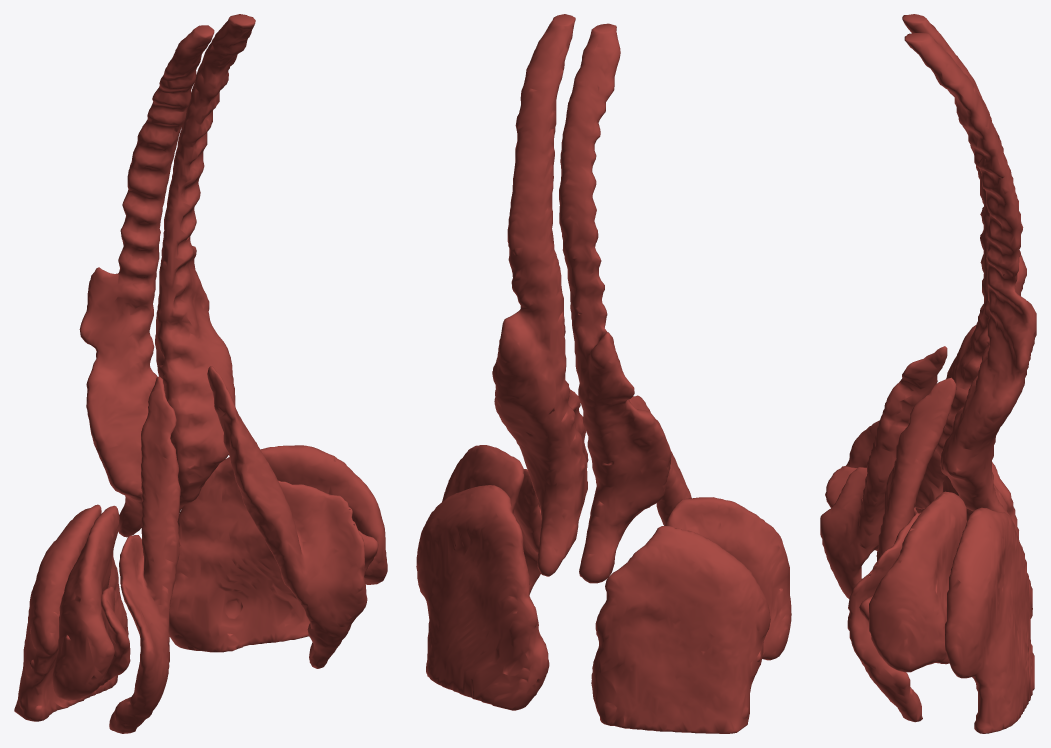
Rendered from tsd_s0196_older_adult_female.muscular.LOD2.glb.
The picture shows the model from 3 angles, left to right: view 1: azimuth 30°, elevation 25°; view 2: azimuth 150°, elevation 25°; view 3: azimuth 270°, elevation 25°; orthographic projection. The views are drawn at different scales.
Visible parts, largest first — view 1: TSD_S0196.OLDER_ADULT.FEMALE.MUSCULAR.ERECTOR_SPINAE_AUTOCHT (×2), TSD_S0196.OLDER_ADULT.FEMALE.MUSCULAR.GLUTEUS_MAXIMUS.L, TSD_S0196.OLDER_ADULT.FEMALE.MUSCULAR.ILIOPSOAS.L, TSD_S0196.OLDER_ADULT.FEMALE.MUSCULAR.ILIOPSOAS.R, TSD_S0196.OLDER_ADULT.FEMALE.MUSCULAR.GLUTEUS_MAXIMUS.R, TSD_S0196.OLDER_ADULT.FEMALE.MUSCULAR.GLUTEUS_MEDIUS.R, TSD_S0196.OLDER_ADULT.FEMALE.MUSCULAR.GLUTEUS_MEDIUS.L, TSD_S0196.OLDER_ADULT.FEMALE.MUSCULAR.GLUTEUS_MINIMUS.R; view 2: TSD_S0196.OLDER_ADULT.FEMALE.MUSCULAR.ERECTOR_SPINAE_AUTOCHT (×2), TSD_S0196.OLDER_ADULT.FEMALE.MUSCULAR.GLUTEUS_MAXIMUS.R, TSD_S0196.OLDER_ADULT.FEMALE.MUSCULAR.GLUTEUS_MAXIMUS.L, TSD_S0196.OLDER_ADULT.FEMALE.MUSCULAR.GLUTEUS_MEDIUS.R, TSD_S0196.OLDER_ADULT.FEMALE.MUSCULAR.GLUTEUS_MEDIUS.L, TSD_S0196.OLDER_ADULT.FEMALE.MUSCULAR.ILIOPSOAS.L, TSD_S0196.OLDER_ADULT.FEMALE.MUSCULAR.ILIOPSOAS.R; view 3: TSD_S0196.OLDER_ADULT.FEMALE.MUSCULAR.ERECTOR_SPINAE_AUTOCHT (×2), TSD_S0196.OLDER_ADULT.FEMALE.MUSCULAR.GLUTEUS_MAXIMUS.L, TSD_S0196.OLDER_ADULT.FEMALE.MUSCULAR.GLUTEUS_MEDIUS.L, TSD_S0196.OLDER_ADULT.FEMALE.MUSCULAR.ILIOPSOAS.L, TSD_S0196.OLDER_ADULT.FEMALE.MUSCULAR.ILIOPSOAS.R, TSD_S0196.OLDER_ADULT.FEMALE.MUSCULAR.GLUTEUS_MEDIUS.R, TSD_S0196.OLDER_ADULT.FEMALE.MUSCULAR.GLUTEUS_MAXIMUS.R, TSD_S0196.OLDER_ADULT.FEMALE.MUSCULAR.GLUTEUS_MINIMUS.R.
Boxes of the visible parts, x1,y1,x2,y2 form: TSD_S0196.OLDER_ADULT.FEMALE.MUSCULAR.ERECTOR_SPINAE_AUTOCHT (×2): [79, 14, 255, 537]; TSD_S0196.OLDER_ADULT.FEMALE.MUSCULAR.GLUTEUS_MAXIMUS.L: [169, 457, 309, 652]; TSD_S0196.OLDER_ADULT.FEMALE.MUSCULAR.ILIOPSOAS.L: [207, 366, 367, 668]; TSD_S0196.OLDER_ADULT.FEMALE.MUSCULAR.ILIOPSOAS.R: [109, 376, 180, 733]; TSD_S0196.OLDER_ADULT.FEMALE.MUSCULAR.GLUTEUS_MAXIMUS.R: [14, 504, 128, 721]; TSD_S0196.OLDER_ADULT.FEMALE.MUSCULAR.GLUTEUS_MEDIUS.R: [52, 505, 119, 700]; TSD_S0196.OLDER_ADULT.FEMALE.MUSCULAR.GLUTEUS_MEDIUS.L: [260, 445, 387, 584]; TSD_S0196.OLDER_ADULT.FEMALE.MUSCULAR.GLUTEUS_MINIMUS.R: [100, 586, 130, 685]; TSD_S0196.OLDER_ADULT.FEMALE.MUSCULAR.ERECTOR_SPINAE_AUTOCHT (×2): [492, 14, 671, 583]; TSD_S0196.OLDER_ADULT.FEMALE.MUSCULAR.GLUTEUS_MAXIMUS.R: [591, 526, 770, 733]; TSD_S0196.OLDER_ADULT.FEMALE.MUSCULAR.GLUTEUS_MAXIMUS.L: [416, 485, 549, 710]; TSD_S0196.OLDER_ADULT.FEMALE.MUSCULAR.GLUTEUS_MEDIUS.R: [665, 497, 791, 660]; TSD_S0196.OLDER_ADULT.FEMALE.MUSCULAR.GLUTEUS_MEDIUS.L: [442, 445, 524, 513]; TSD_S0196.OLDER_ADULT.FEMALE.MUSCULAR.ILIOPSOAS.L: [513, 383, 588, 594]; TSD_S0196.OLDER_ADULT.FEMALE.MUSCULAR.ILIOPSOAS.R: [629, 395, 691, 525]; TSD_S0196.OLDER_ADULT.FEMALE.MUSCULAR.ERECTOR_SPINAE_AUTOCHT (×2): [902, 14, 1036, 528]; TSD_S0196.OLDER_ADULT.FEMALE.MUSCULAR.GLUTEUS_MAXIMUS.L: [945, 507, 1034, 733]; TSD_S0196.OLDER_ADULT.FEMALE.MUSCULAR.GLUTEUS_MEDIUS.L: [869, 491, 966, 672]; TSD_S0196.OLDER_ADULT.FEMALE.MUSCULAR.ILIOPSOAS.L: [847, 377, 956, 722]; TSD_S0196.OLDER_ADULT.FEMALE.MUSCULAR.ILIOPSOAS.R: [820, 346, 947, 598]; TSD_S0196.OLDER_ADULT.FEMALE.MUSCULAR.GLUTEUS_MEDIUS.R: [846, 420, 945, 550]; TSD_S0196.OLDER_ADULT.FEMALE.MUSCULAR.GLUTEUS_MAXIMUS.R: [915, 462, 1018, 538]; TSD_S0196.OLDER_ADULT.FEMALE.MUSCULAR.GLUTEUS_MINIMUS.R: [825, 466, 917, 550].
Bounding box in the file's own units: 0.2943 × 0.5508 × 0.1668.
